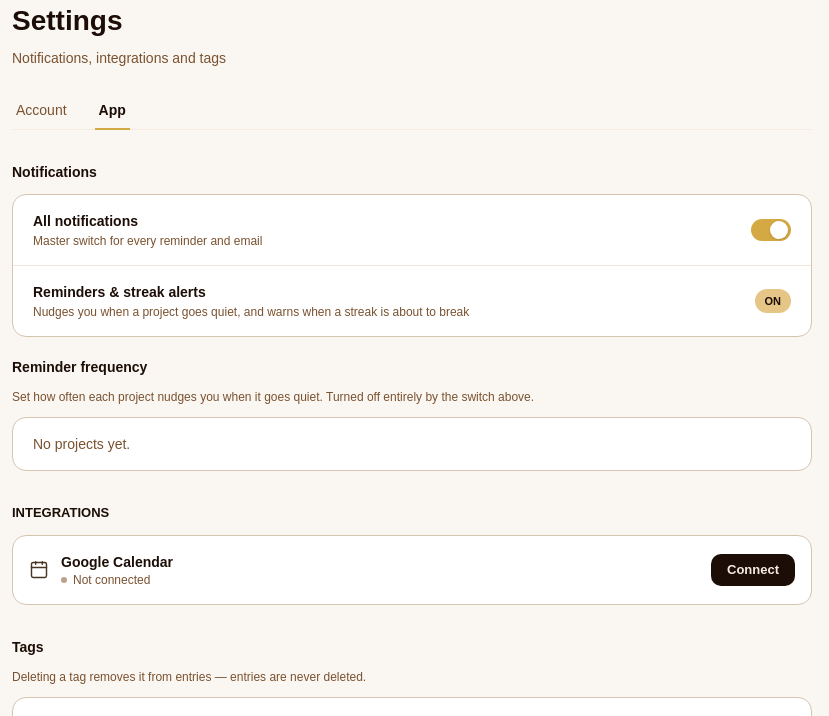
Settings sections › switches sections when a tab is clicked
Click the tab "Account" at point(41, 115), box [12,100,71,130]
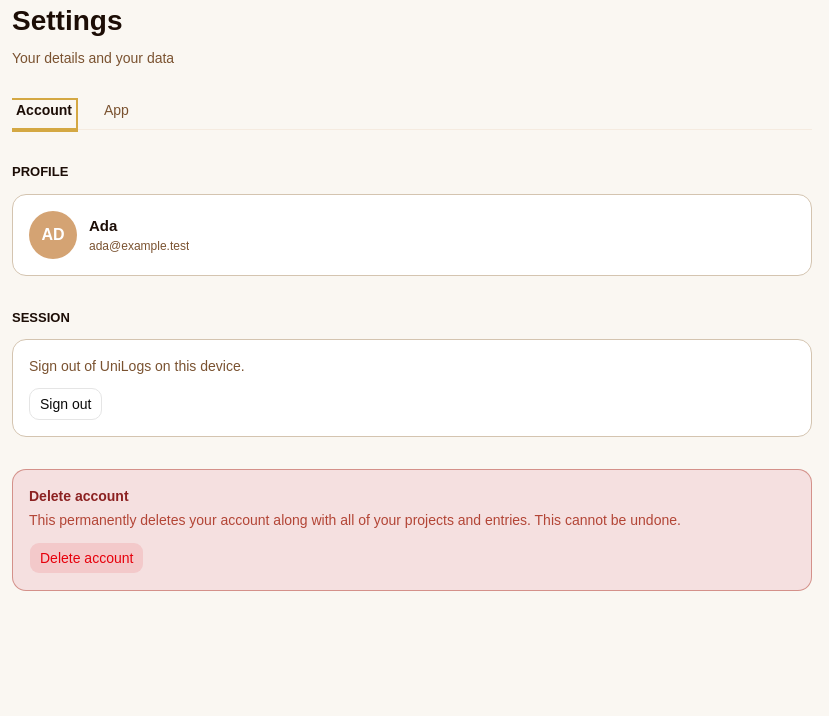
Now the text "ada@example.test" is shown, box [89,238,189,254]
Click the tab "App" at point(116, 115), box [100,100,133,130]
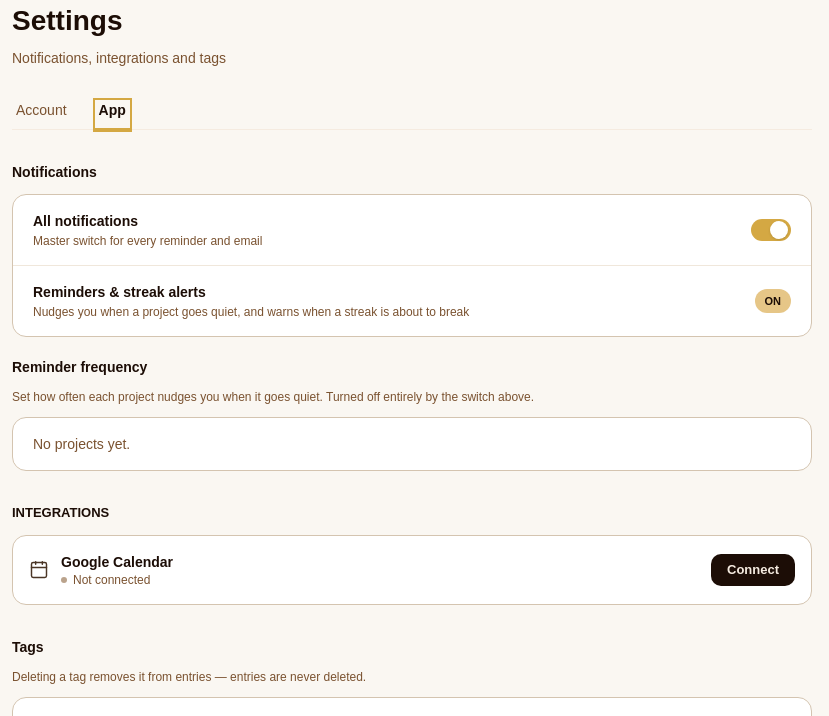
Now the text "Notifications" is shown, box [12,164,97,180]
